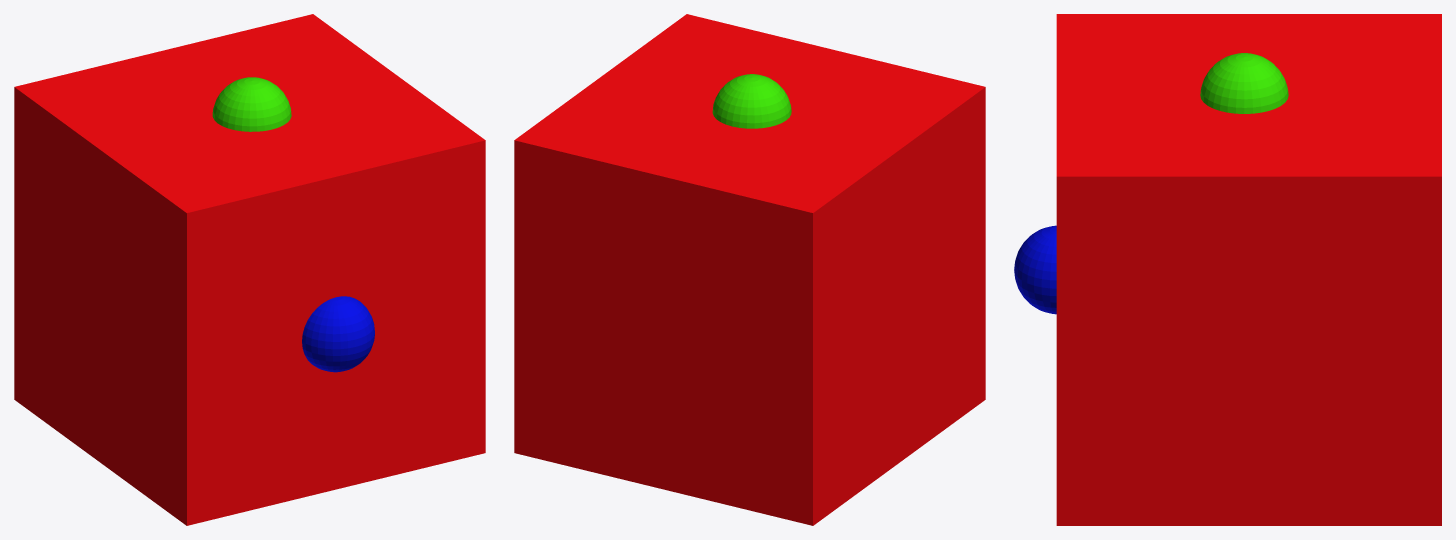
The picture shows the model from 3 angles, left to right: view 1: azimuth 30°, elevation 25°; view 2: azimuth 150°, elevation 25°; view 3: azimuth 270°, elevation 25°; orthographic projection. The views are drawn at different scales.
Parts seen in each view (by area): view 1: Cube, Sphere, Sphere.001; view 2: Cube, Sphere.001; view 3: Cube, Sphere.001, Sphere.
Part boxes in pixels (bbox=[...]): Cube: bbox=[14, 14, 485, 525]; Sphere: bbox=[302, 296, 374, 372]; Sphere.001: bbox=[212, 77, 291, 131]; Cube: bbox=[514, 14, 985, 525]; Sphere.001: bbox=[712, 74, 791, 128]; Cube: bbox=[1056, 14, 1441, 525]; Sphere.001: bbox=[1200, 53, 1288, 113]; Sphere: bbox=[1014, 225, 1056, 314].
Bounding box in the file's own units: 2 × 2.22 × 2.22.
